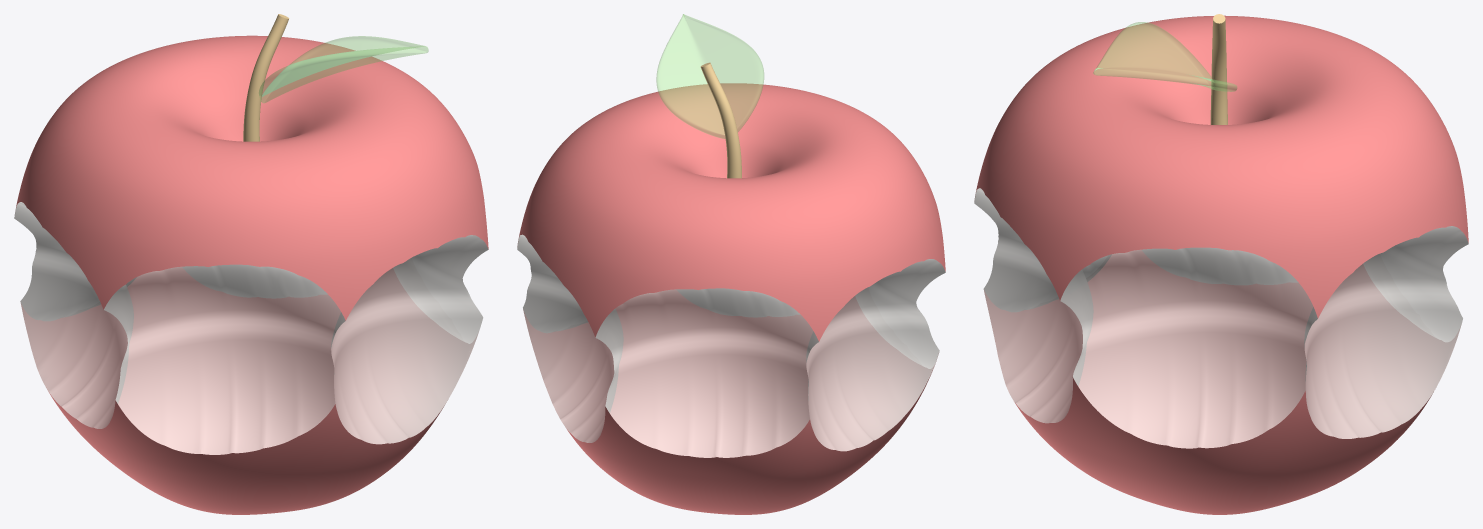
The picture shows the model from 3 angles, left to right: view 1: azimuth 30°, elevation 25°; view 2: azimuth 150°, elevation 25°; view 3: azimuth 270°, elevation 25°; orthographic projection. The views are drawn at different scales.
Parts seen in each view (by area): view 1: Apple, Leaf, Stem; view 2: Apple, Leaf, Stem; view 3: Apple, Leaf, Stem.
Boxes of the visible parts, box(x1,y1,x2,y2) form: Apple: box(14, 35, 488, 514); Leaf: box(259, 36, 428, 102); Stem: box(243, 14, 289, 141); Apple: box(517, 83, 945, 514); Leaf: box(656, 14, 763, 138); Stem: box(700, 62, 741, 178); Apple: box(974, 15, 1468, 514); Leaf: box(1093, 22, 1236, 91); Stem: box(1210, 14, 1227, 124).
Size of the model in its own units: 1.92 by 2.15 by 2.01.
